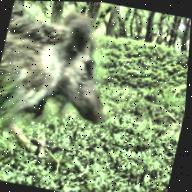boar: (0, 0, 139, 164)
